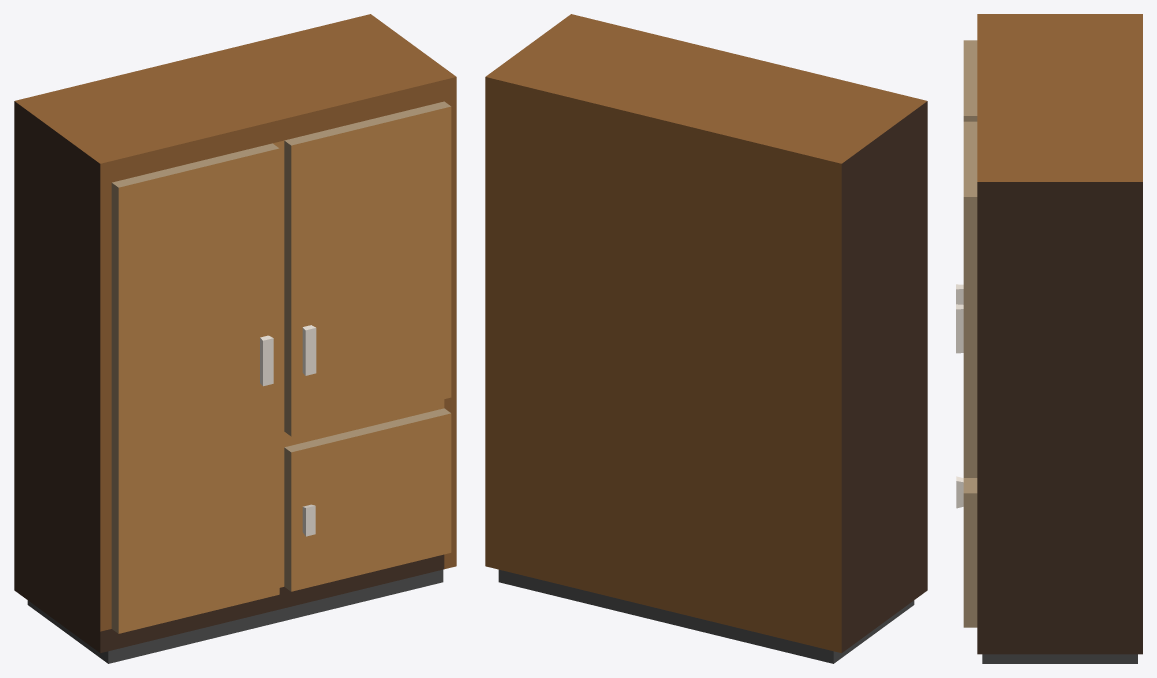
Rendered from wardrobe.fbx.
3 views of the same model, side by side, from view 1: azimuth 30°, elevation 25°; view 2: azimuth 150°, elevation 25°; view 3: azimuth 270°, elevation 25° (orthographic). The views are drawn at different scales.
Parts seen in each view (by area): view 1: mesh_Wardrobe; view 2: mesh_Wardrobe; view 3: mesh_Wardrobe.
Part boxes in pixels (box(x1,y1,x2,y2)): mesh_Wardrobe: box(14, 14, 456, 663); mesh_Wardrobe: box(485, 14, 927, 663); mesh_Wardrobe: box(956, 14, 1142, 663).
Bounding box in the file's own units: 1.7 × 2.3 × 0.8.
